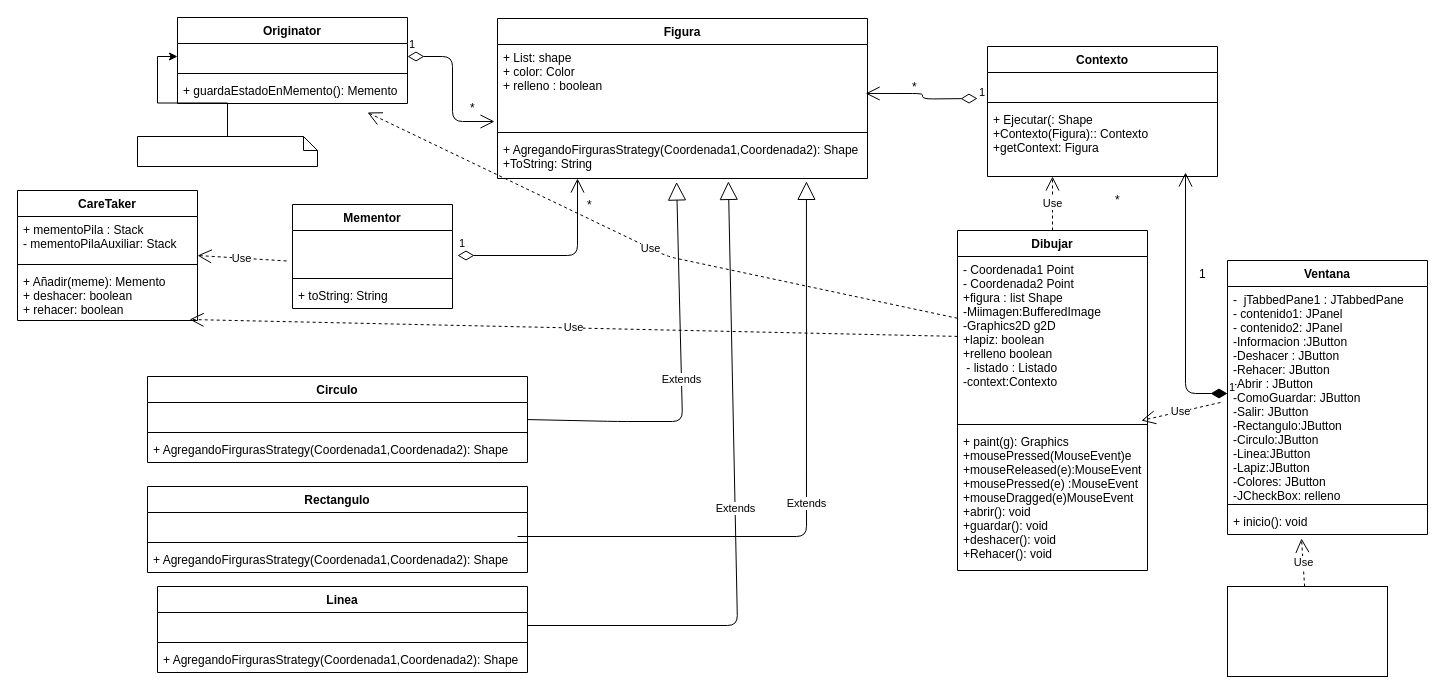
Some shapes in this 1445 by 694 pixel diagram are drawn without their labels. The shapes that lost their labels are listed below. From the top down, each one's centre as x and y in pixels, then its label:
point 227,151: return new Memento(figura);
point 1307,631: MiniPaint + Main (): void
